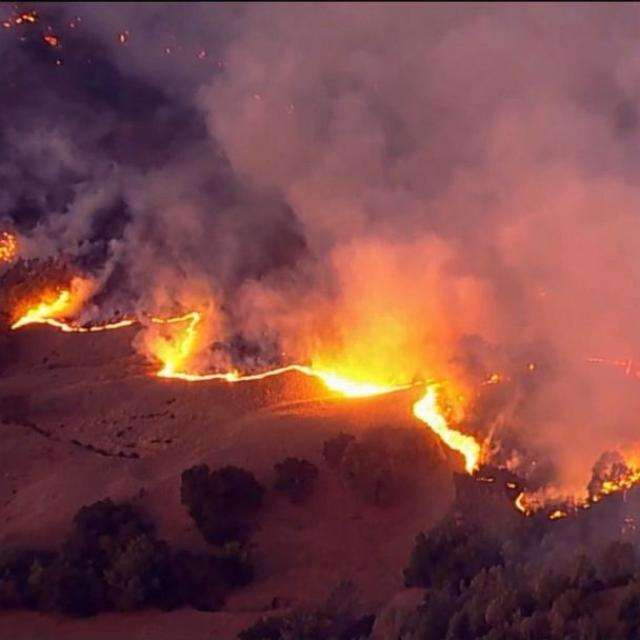Fire: (8, 266, 250, 417), (252, 330, 490, 478), (506, 451, 640, 534)
Smoke: (0, 1, 343, 176), (342, 0, 639, 176), (340, 174, 640, 324), (22, 180, 340, 263), (496, 324, 634, 446)
